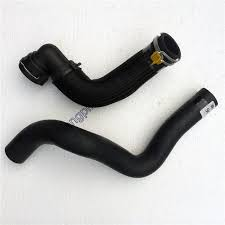radiator_hose: (6, 90, 219, 178), (19, 34, 180, 108)
